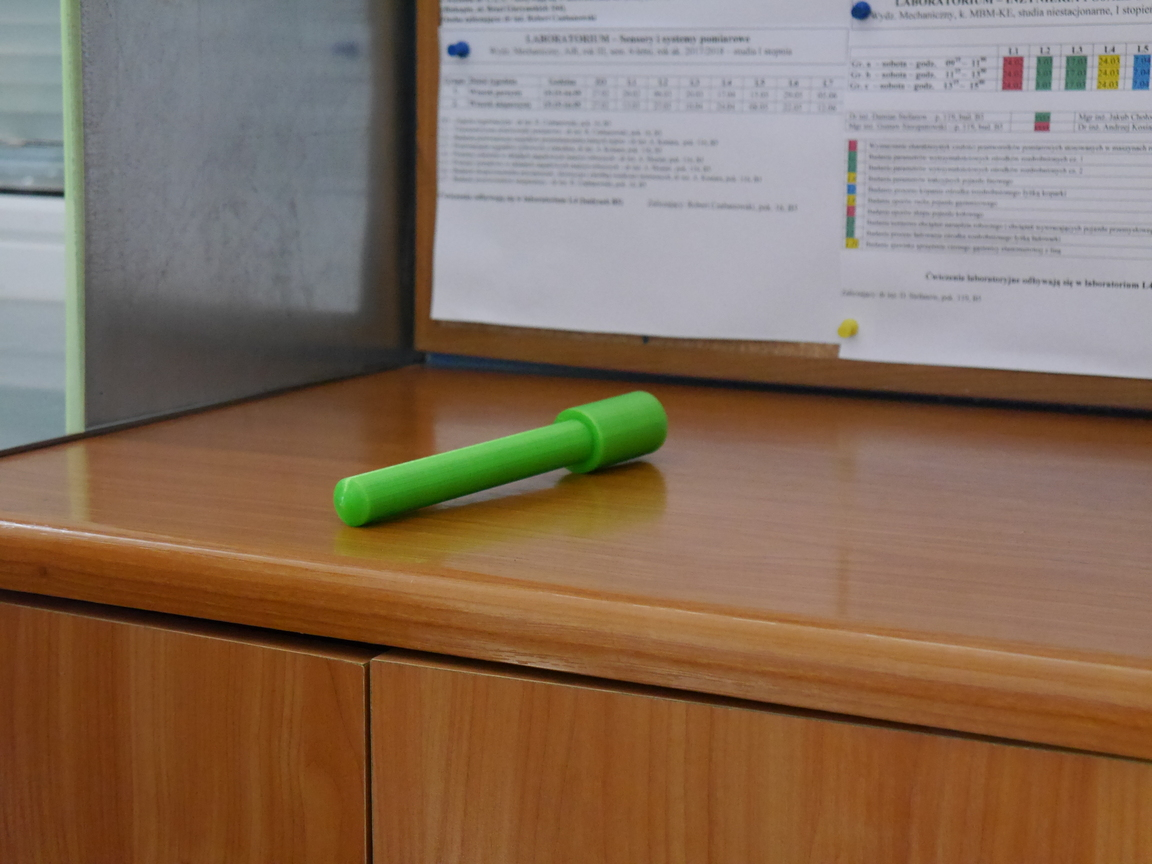cargo_g: (333, 391, 668, 527)
